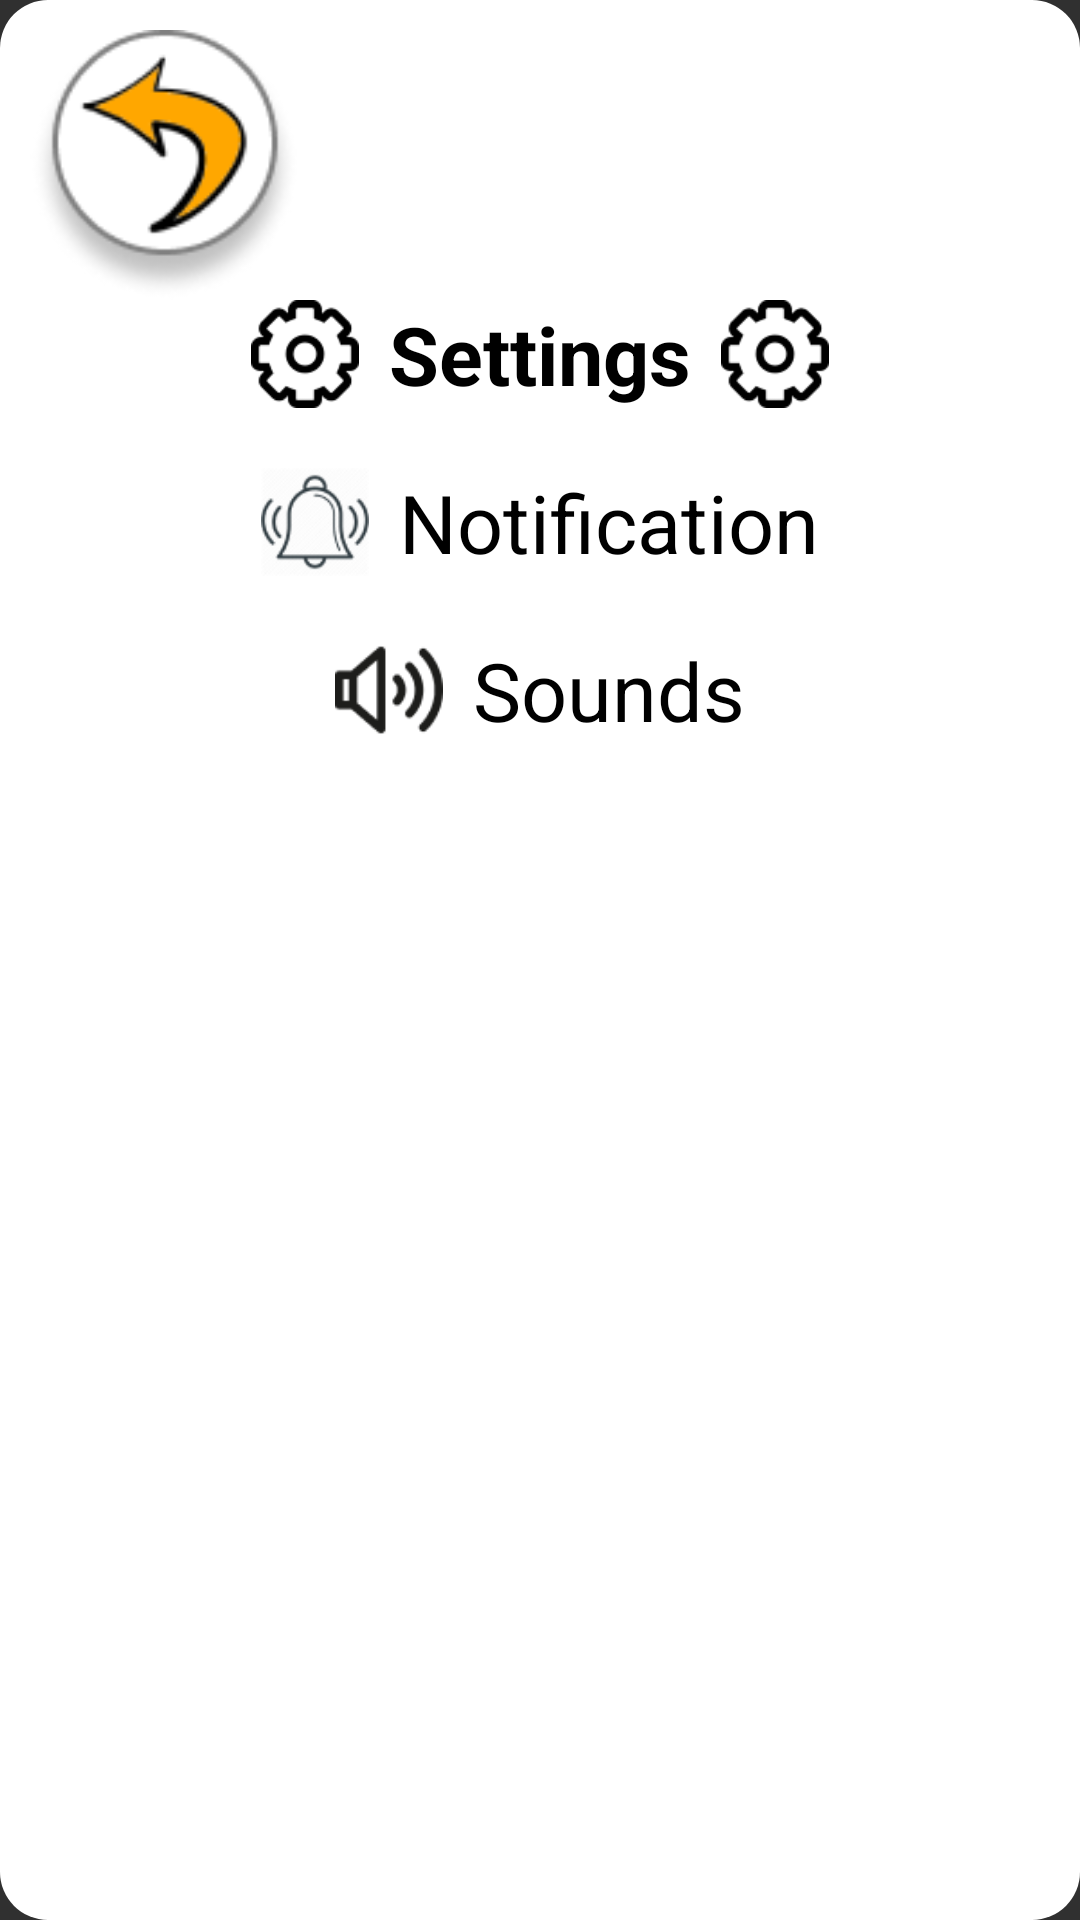

Icon bounding boxes for this 1080px×1920px phone screenshot, format box=[x1, y1, x2, y2]:
parameter: box=[251, 300, 359, 408], box=[721, 300, 829, 408]
returnbutton: box=[50, 30, 280, 280]
